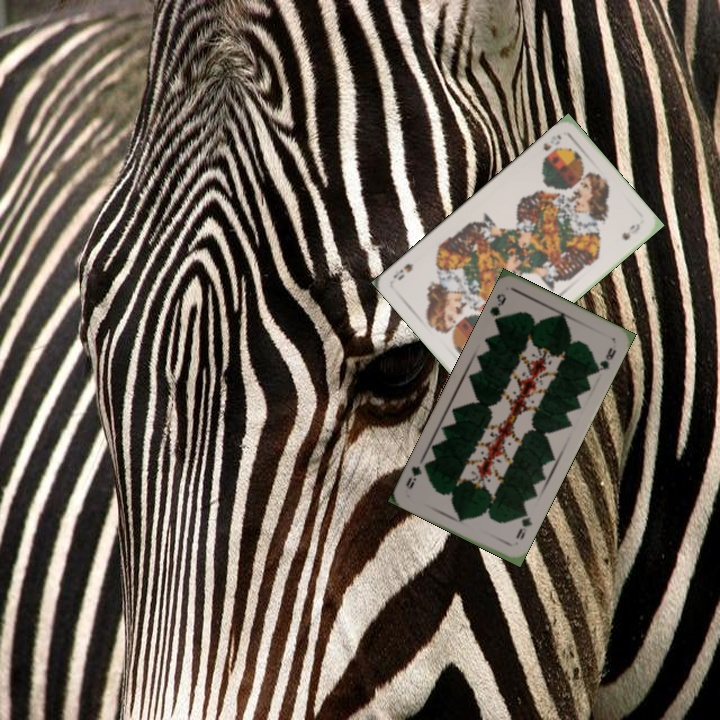G9: (486, 289, 509, 327), (512, 507, 535, 542)
SO: (539, 130, 564, 154)
